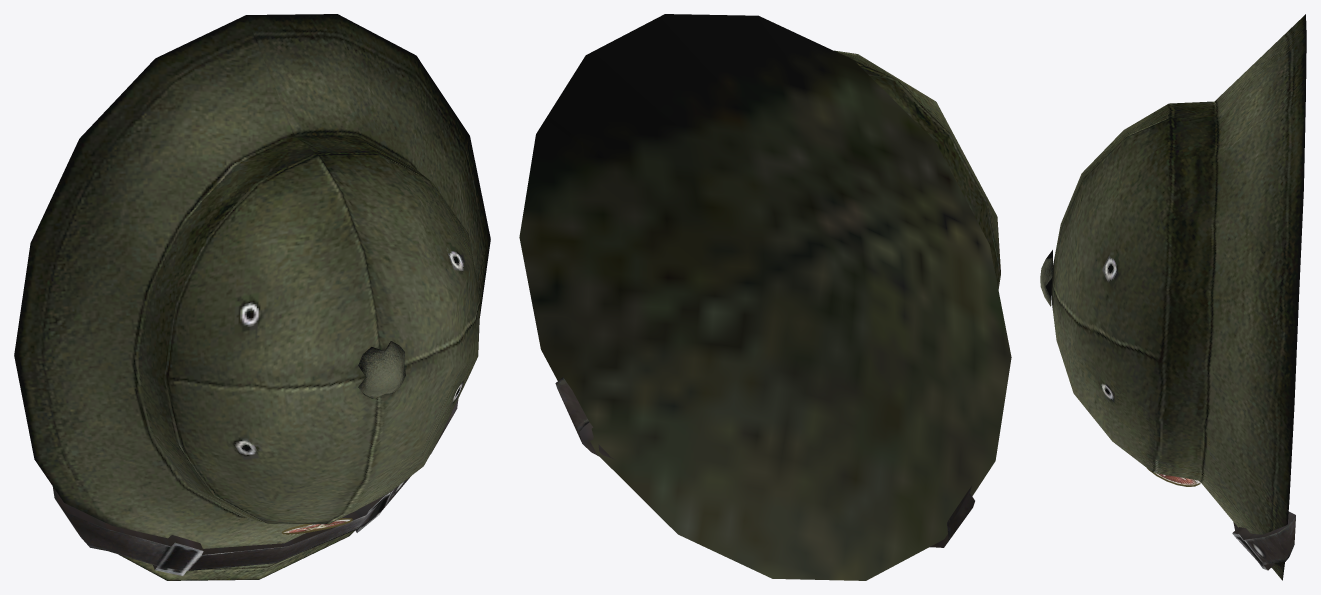
The model's file is nva_pith_helmet_-_mu_coi_sao_vang.glb.
3 renders of one model, left to right at view 1: azimuth 30°, elevation 25°; view 2: azimuth 150°, elevation 25°; view 3: azimuth 270°, elevation 25°, orthographic. The views are drawn at different scales.
Visible parts, largest first — view 1: Object_2; view 2: Object_2; view 3: Object_2.
Boxes of the visible parts, x1=… form: Object_2: x1=14, y1=14, x2=490, y2=580; Object_2: x1=519, y1=14, x2=1011, y2=580; Object_2: x1=1040, y1=14, x2=1306, y2=580.
Bounding box in the file's own units: 28.79 × 32.04 × 14.8.
1 material, 1 textured.
